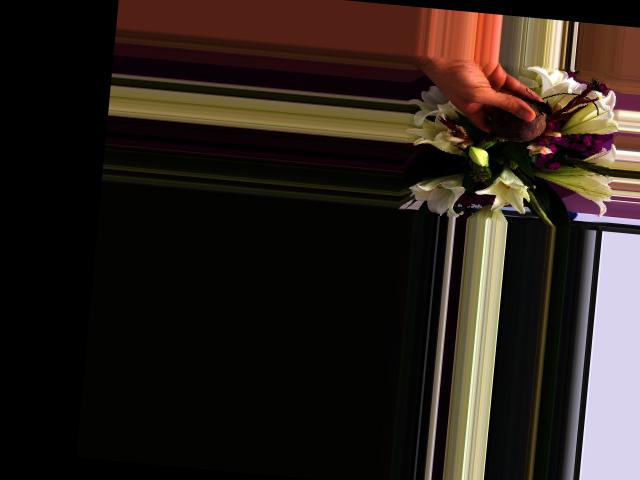beet: (473, 94, 553, 154)
